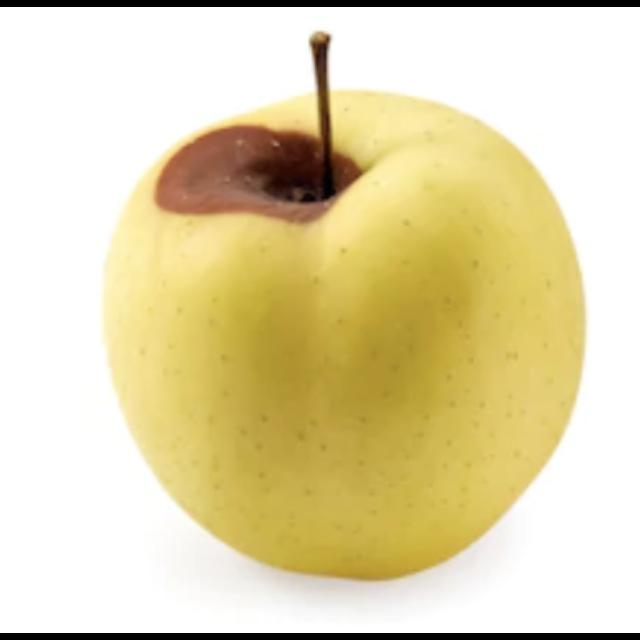Apel Tidak Segar: (99, 85, 589, 588)
